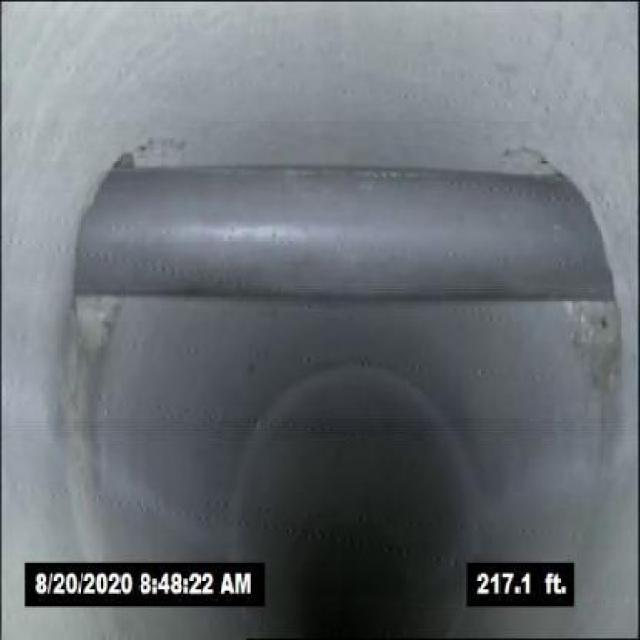Utility intrusion: (69, 158, 620, 308)
